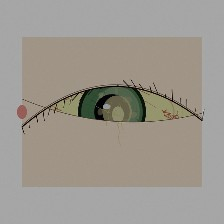corneal_ulcer: (91, 91, 144, 133)
